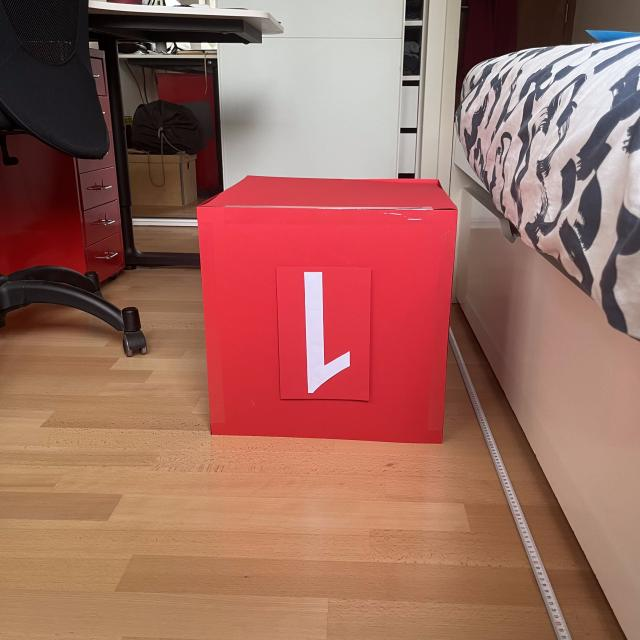box: (191, 170, 461, 447)
